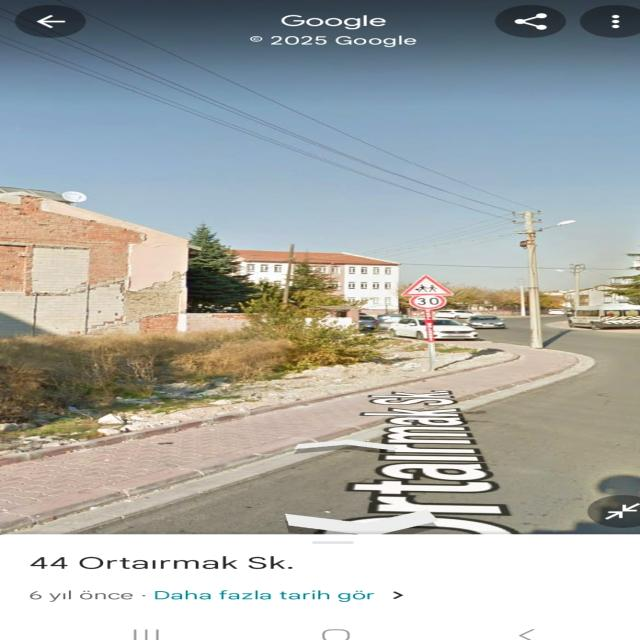okul_gecidi: (401, 274, 454, 295)
